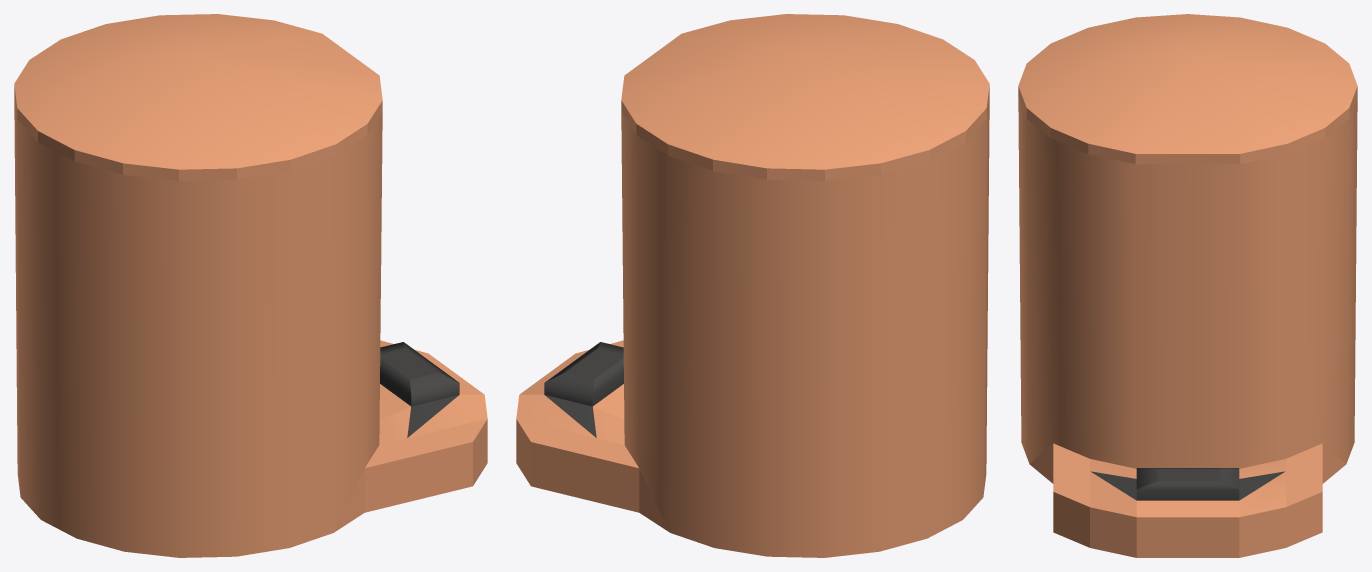
The model's file is small_bin.fbx.
3 views of the same model, side by side, from view 1: azimuth 30°, elevation 25°; view 2: azimuth 150°, elevation 25°; view 3: azimuth 270°, elevation 25° (orthographic). The views are drawn at different scales.
Parts seen in each view (by area): view 1: small_bin; view 2: small_bin; view 3: small_bin.
Part boxes in pixels (x1,y1,x2,y2): small_bin: [14, 14, 487, 557]; small_bin: [516, 14, 989, 557]; small_bin: [1018, 14, 1357, 557].
Size of the model in its own units: 41.29 by 40.22 by 31.65.
